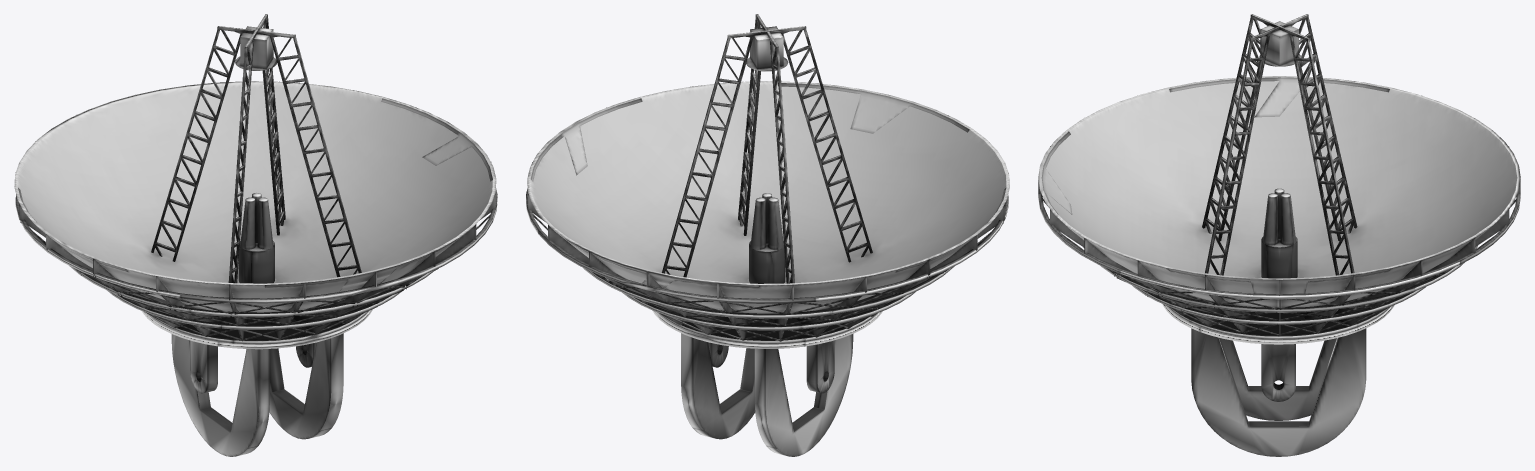
File: nasa_dish_70m.glb
The picture shows the model from 3 angles, left to right: view 1: azimuth 30°, elevation 25°; view 2: azimuth 150°, elevation 25°; view 3: azimuth 270°, elevation 25°; orthographic projection.
Parts seen in each view (by area): view 1: 70m_rev_e.; view 2: 70m_rev_e.; view 3: 70m_rev_e..
Part boxes in pixels (bbox=[...]): 70m_rev_e.: bbox=[14, 14, 497, 456]; 70m_rev_e.: bbox=[526, 14, 1009, 456]; 70m_rev_e.: bbox=[1038, 14, 1520, 456].
Bounding box in the file's own units: 91.57 × 85.54 × 91.31.
1 material, 1 textured.
